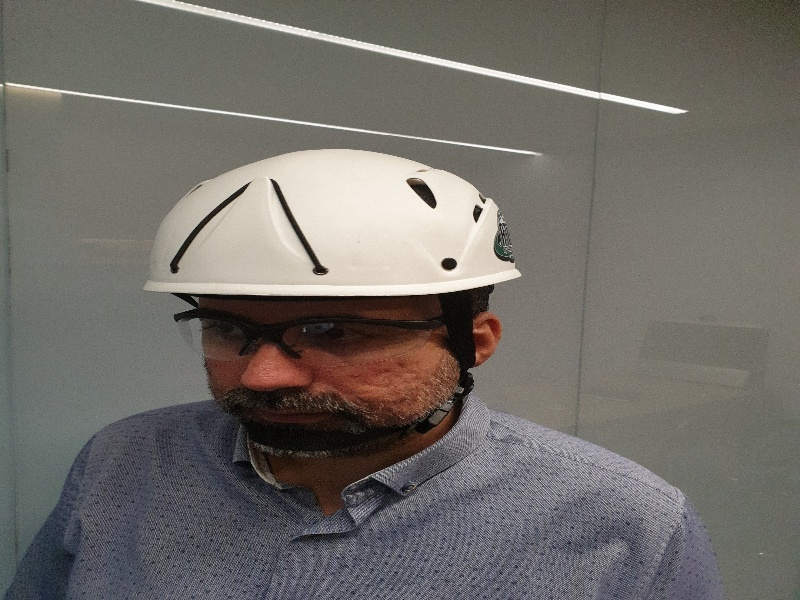Baret: (144, 148, 521, 295)
Gozluk: (170, 306, 469, 365)
